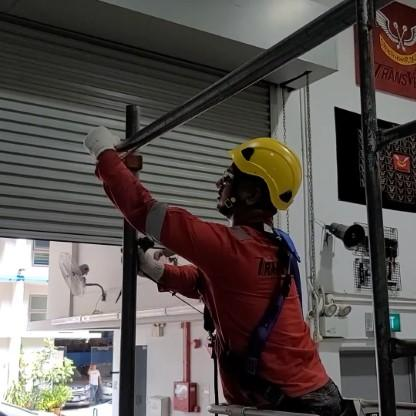helmet: (199, 135, 311, 250)
